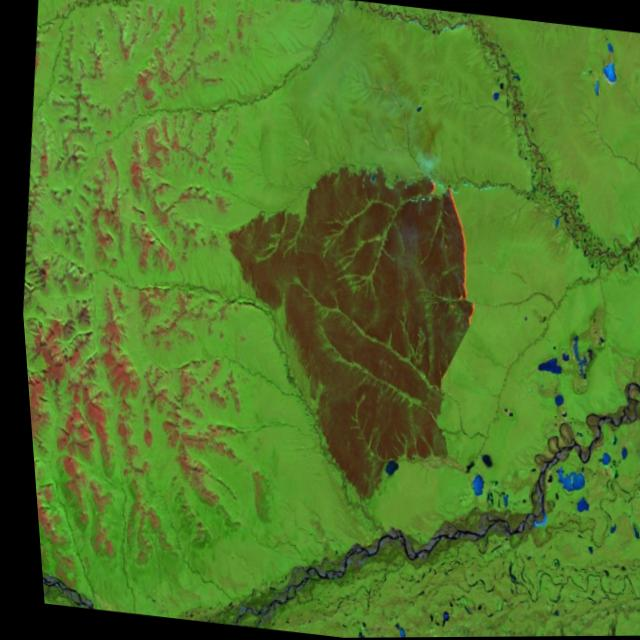fire: (403, 171, 489, 336)
